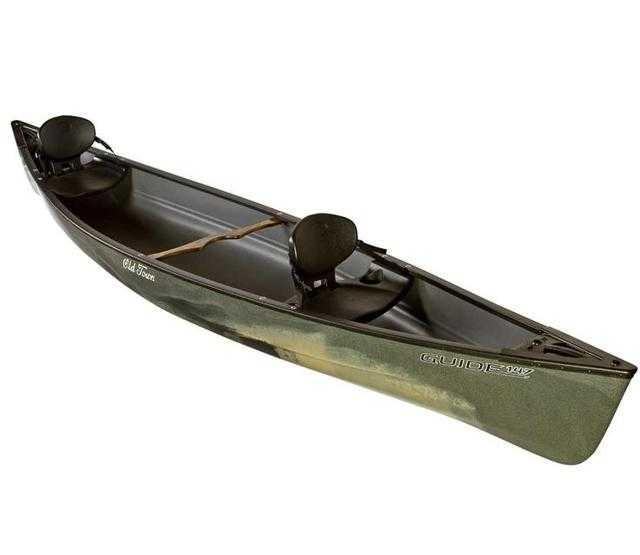kayak: (2, 116, 637, 468)
